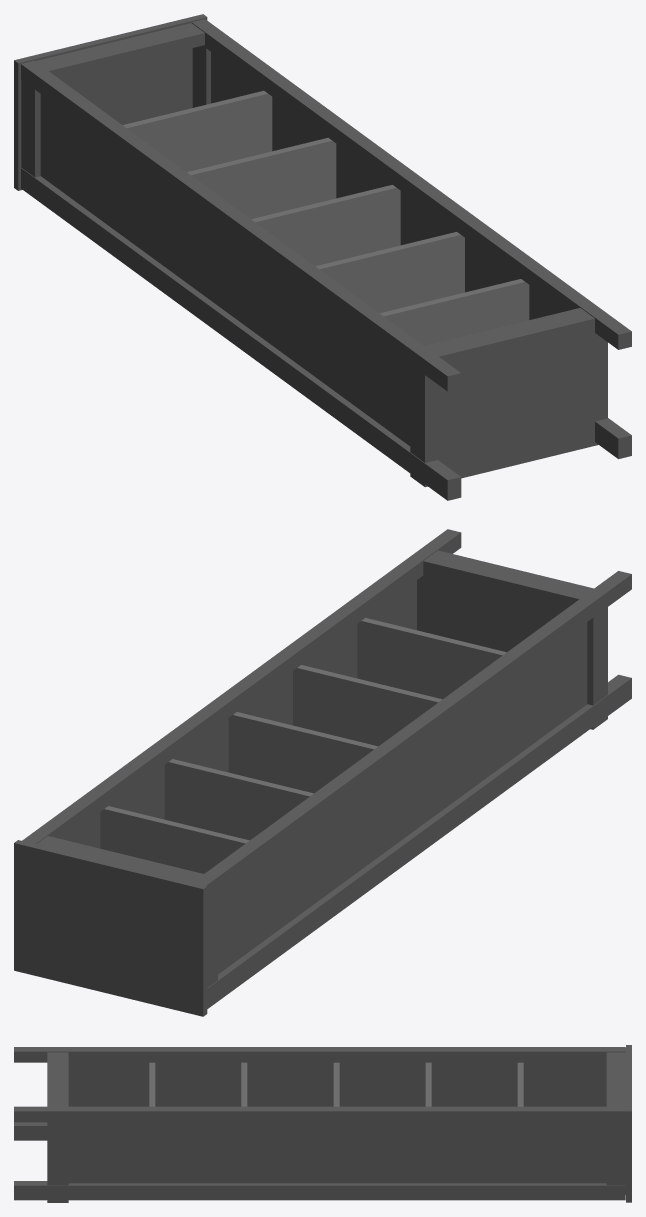
Rendered from shelf-b.glb.
3 views of the same model, one above another, from view 1: azimuth 30°, elevation 25°; view 2: azimuth 150°, elevation 25°; view 3: azimuth 270°, elevation 25° (orthographic). The views are drawn at different scales.
Visible parts, largest first — view 1: shelf_026; view 2: shelf_026; view 3: shelf_026.
Part boxes in pixels (<box>): shelf_026: <box>14,14,631,500</box>; shelf_026: <box>14,529,631,1016</box>; shelf_026: <box>14,1045,631,1202</box>.
Bounding box in the file's own units: 0.5034 × 0.3285 × 1.99.
1 material, 1 textured.
